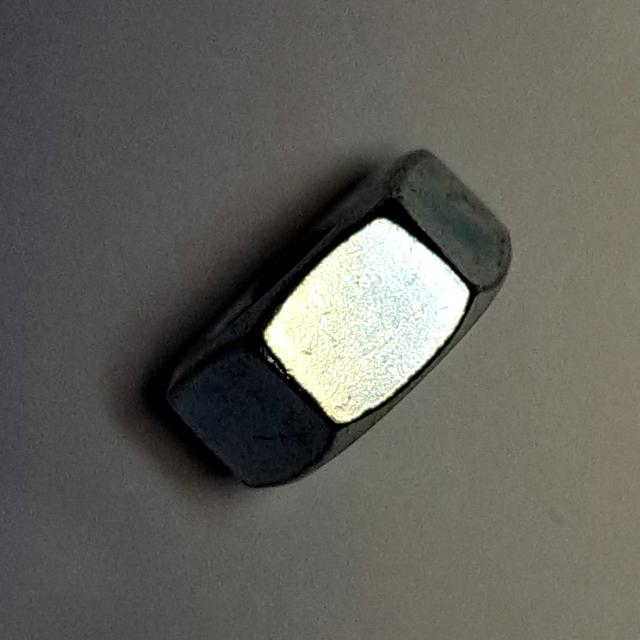Side_Excellent: (134, 124, 528, 506)
